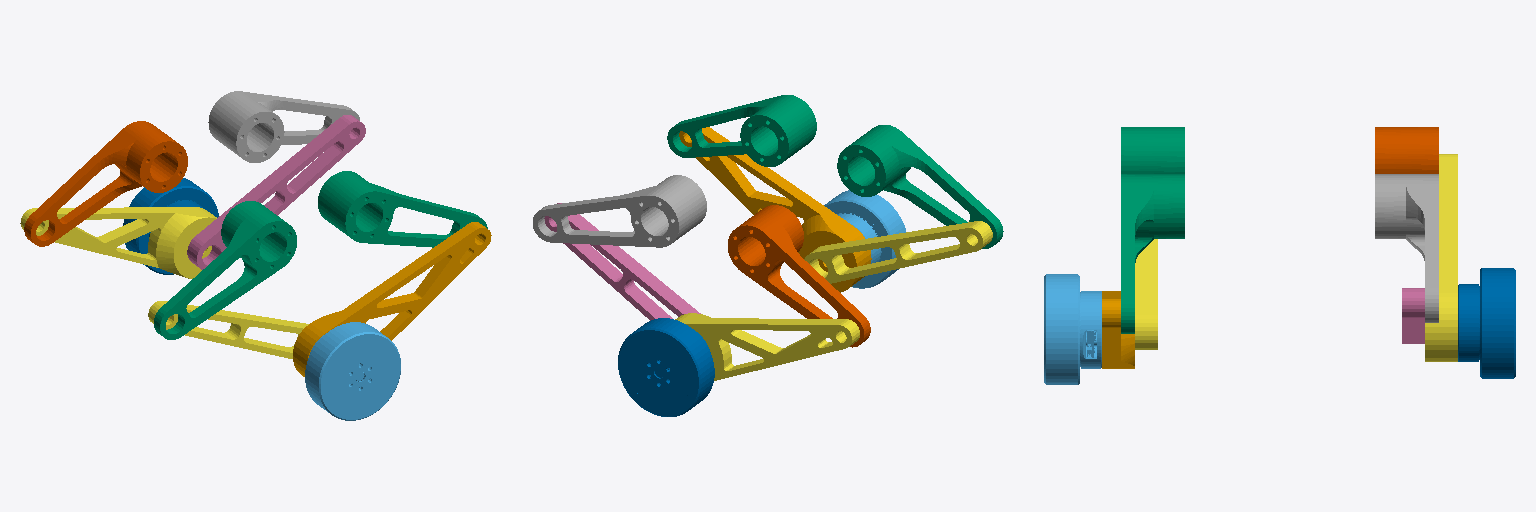
The robot description file, URDF, robot "wheel_leg_robot":
<?xml version="1.0"?>
<robot name="wheel_leg_robot">

  <link name="world"/>

  <!-- ================= base ================= -->
  <link name="base_link">
    <visual>
      <origin xyz="0 0 0" rpy="0 1.5708 0"/>
      <geometry>
        <mesh filename="package://wheel_leg_description/meshes/visual/shell_and_big_motor.stl"
              scale="0.001 0.001 0.001"/>
      </geometry>
      <material name="base_gray">
        <color rgba="0.65 0.65 0.65 1"/>
      </material>
    </visual>
  </link>

  <joint name="world_to_base" type="fixed">
    <parent link="world"/>
    <child link="base_link"/>
    <origin xyz="0 0 0" rpy="0 0 0"/>
  </joint>


  <!-- ========================================================= -->
  <!-- big_arm_1: J1 -> K1 -> small_leg_wheel_1 -> W1 -> wheel_1 -->
  <!-- ========================================================= -->

  <link name="big_arm_1_link">
    <visual>
      <origin xyz="-0.231306 -0.053564 -0.030643" rpy="0 1.5708 0"/>
      <geometry>
        <mesh filename="package://wheel_leg_description/meshes/visual/big_arm_1.stl"
              scale="0.001 0.001 0.001"/>
      </geometry>
    </visual>
  </link>

  <joint name="big_arm_1_joint" type="revolute">
    <parent link="base_link"/>
    <child link="big_arm_1_link"/>
    <origin xyz="0.231306 0.053564 0.030643" rpy="0 0 0"/>
    <axis xyz="0 1 0"/>
    <limit lower="-1.57" upper="1.57" effort="20" velocity="10"/>
  </joint>

  <link name="small_leg_wheel_1_link">
    <visual>
      <origin xyz="-0.308448 -0.080564 -0.009451" rpy="0 1.5708 0"/>
      <geometry>
        <mesh filename="package://wheel_leg_description/meshes/visual/small_leg_wheel_1.stl"
              scale="0.001 0.001 0.001"/>
      </geometry>
    </visual>
  </link>

  <joint name="knee_1_joint" type="revolute">
    <parent link="big_arm_1_link"/>
    <child link="small_leg_wheel_1_link"/>
    <origin xyz="0.077142 0.027000 -0.021192" rpy="0 0 0"/>
    <axis xyz="0 1 0"/>
    <limit lower="-2.5" upper="2.5" effort="20" velocity="10"/>
  </joint>

  <link name="wheel_motor_1_link">
    <visual>
      <origin xyz="-0.204820 -0.080564 0.051057" rpy="0 1.5708 0"/>
      <geometry>
        <mesh filename="package://wheel_leg_description/meshes/visual/wheel_motor_1.stl"
              scale="0.001 0.001 0.001"/>
      </geometry>
    </visual>
  </link>

  <joint name="wheel_1_joint" type="continuous">
    <parent link="small_leg_wheel_1_link"/>
    <child link="wheel_motor_1_link"/>
    <origin xyz="-0.103628 0 -0.060508" rpy="0 0 0"/>
    <axis xyz="0 1 0"/>
  </joint>


  <!-- ========================================== -->
  <!-- big_arm_2: J2 -> K2 -> small_leggy_1        -->
  <!-- ========================================== -->

  <link name="big_arm_2_link">
    <visual>
      <origin xyz="-0.161440 -0.053564 -0.026313" rpy="0 1.5708 0"/>
      <geometry>
        <mesh filename="package://wheel_leg_description/meshes/visual/big_arm_2.stl"
              scale="0.001 0.001 0.001"/>
      </geometry>
    </visual>
  </link>

  <joint name="big_arm_2_joint" type="revolute">
    <parent link="base_link"/>
    <child link="big_arm_2_link"/>
    <origin xyz="0.161440 0.053564 0.026313" rpy="0 0 0"/>
    <axis xyz="0 1 0"/>
    <limit lower="-1.57" upper="1.57" effort="20" velocity="10"/>
  </joint>

  <link name="small_leggy_1_link">
    <visual>
      <origin xyz="-0.091299 -0.088564 0.012160" rpy="0 1.5708 0"/>
      <geometry>
        <mesh filename="package://wheel_leg_description/meshes/visual/small_leggy_1.stl"
              scale="0.001 0.001 0.001"/>
      </geometry>
    </visual>
  </link>

  <joint name="knee_2_joint" type="revolute">
    <parent link="big_arm_2_link"/>
    <child link="small_leggy_1_link"/>
    <origin xyz="-0.070141 0.035000 -0.038473" rpy="0 0 0"/>
    <axis xyz="0 1 0"/>
    <limit lower="-2.5" upper="2.5" effort="20" velocity="10"/>
  </joint>


  <!-- ========================================================= -->
  <!-- big_arm_3: J3 -> K3 -> small_leg_wheel_2 -> W2 -> wheel_2 -->
  <!-- ========================================================= -->

  <link name="big_arm_3_link">
    <visual>
      <origin xyz="-0.231306 0.048436 -0.030643" rpy="0 1.5708 0"/>
      <geometry>
        <mesh filename="package://wheel_leg_description/meshes/visual/big_arm_3.stl"
              scale="0.001 0.001 0.001"/>
      </geometry>
    </visual>
  </link>

  <joint name="big_arm_3_joint" type="revolute">
    <parent link="base_link"/>
    <child link="big_arm_3_link"/>
    <origin xyz="0.231306 -0.048436 0.030643" rpy="0 0 0"/>
    <axis xyz="0 1 0"/>
    <limit lower="-1.57" upper="1.57" effort="20" velocity="10"/>
  </joint>

  <link name="small_leg_wheel_2_link">
    <visual>
      <origin xyz="-0.306005 0.083436 -0.002006" rpy="0 1.5708 0"/>
      <geometry>
        <mesh filename="package://wheel_leg_description/meshes/visual/small_leg_wheel_2.stl"
              scale="0.001 0.001 0.001"/>
      </geometry>
    </visual>
  </link>

  <joint name="knee_3_joint" type="revolute">
    <parent link="big_arm_3_link"/>
    <child link="small_leg_wheel_2_link"/>
    <origin xyz="0.074699 -0.035000 -0.028637" rpy="0 0 0"/>
    <axis xyz="0 1 0"/>
    <limit lower="-2.5" upper="2.5" effort="20" velocity="10"/>
  </joint>

  <link name="wheel_motor_2_link">
    <visual>
      <origin xyz="-0.201207 0.083436 0.056453" rpy="0 1.5708 0"/>
      <geometry>
        <mesh filename="package://wheel_leg_description/meshes/visual/wheel_motor_2.stl"
              scale="0.001 0.001 0.001"/>
      </geometry>
    </visual>
  </link>

  <joint name="wheel_2_joint" type="continuous">
    <parent link="small_leg_wheel_2_link"/>
    <child link="wheel_motor_2_link"/>
    <origin xyz="-0.104798 0 -0.058459" rpy="0 0 0"/>
    <axis xyz="0 1 0"/>
  </joint>


  <!-- ========================================== -->
  <!-- big_arm_4: J4 -> K4 -> small_leggy_2        -->
  <!-- ========================================== -->

  <link name="big_arm_4_link">
    <visual>
      <origin xyz="-0.161440 0.048436 -0.026313" rpy="0 1.5708 0"/>
      <geometry>
        <mesh filename="package://wheel_leg_description/meshes/visual/big_arm_4.stl"
              scale="0.001 0.001 0.001"/>
      </geometry>
    </visual>
  </link>

  <joint name="big_arm_4_joint" type="revolute">
    <parent link="base_link"/>
    <child link="big_arm_4_link"/>
    <origin xyz="0.161440 -0.048436 0.026313" rpy="0 0 0"/>
    <axis xyz="0 1 0"/>
    <limit lower="-1.57" upper="1.57" effort="20" velocity="10"/>
  </joint>

  <link name="small_leggy_2_link">
    <visual>
      <origin xyz="-0.090381 0.075436 0.010437" rpy="0 1.5708 0"/>
      <geometry>
        <mesh filename="package://wheel_leg_description/meshes/visual/small_leggy_2.stl"
              scale="0.001 0.001 0.001"/>
      </geometry>
    </visual>
  </link>

  <joint name="knee_4_joint" type="revolute">
    <parent link="big_arm_4_link"/>
    <child link="small_leggy_2_link"/>
    <origin xyz="-0.071059 -0.027000 -0.036750" rpy="0 0 0"/>
    <axis xyz="0 1 0"/>
    <limit lower="-2.5" upper="2.5" effort="20" velocity="10"/>
  </joint>

</robot>

--- What the picture shows (computed from the rendered views, not written in the file) ---
3 views of the same robot in one strip: view 1: azimuth 30°, elevation 25°; view 2: azimuth 150°, elevation 25°; view 3: azimuth 270°, elevation 25° (orthographic).
Robot: wheel_leg_robot — 12 links, 11 joints (8 revolute, 2 continuous, 1 fixed); root link world; default pose: all joints at 0.
Links seen in each view (by area): view 1: big_arm_2_link, big_arm_4_link, wheel_motor_2_link, small_leg_wheel_2_link, small_leg_wheel_1_link, big_arm_1_link, big_arm_3_link, small_leggy_1_link, small_leggy_2_link, wheel_motor_1_link; view 2: wheel_motor_1_link, big_arm_4_link, big_arm_3_link, big_arm_2_link, big_arm_1_link, small_leg_wheel_2_link, small_leg_wheel_1_link, small_leggy_2_link, small_leggy_1_link, wheel_motor_2_link; view 3: wheel_motor_2_link, wheel_motor_1_link, big_arm_1_link, big_arm_3_link, small_leg_wheel_1_link, big_arm_2_link, big_arm_4_link, small_leggy_2_link, small_leg_wheel_2_link, small_leggy_1_link.
Link boxes in pixels (x1=…): big_arm_2_link: x1=24, y1=121, x2=187, y2=246; big_arm_4_link: x1=154, y1=201, x2=296, y2=339; wheel_motor_2_link: x1=305, y1=322, x2=400, y2=420; small_leg_wheel_2_link: x1=293, y1=222, x2=491, y2=376; small_leg_wheel_1_link: x1=20, y1=207, x2=216, y2=278; big_arm_1_link: x1=318, y1=171, x2=487, y2=247; big_arm_3_link: x1=208, y1=91, x2=359, y2=162; small_leggy_1_link: x1=187, y1=115, x2=365, y2=269; small_leggy_2_link: x1=148, y1=301, x2=308, y2=358; wheel_motor_1_link: x1=123, y1=178, x2=218, y2=274; wheel_motor_1_link: x1=618, y1=318, x2=714, y2=416; big_arm_4_link: x1=837, y1=125, x2=1003, y2=248; big_arm_3_link: x1=533, y1=175, x2=706, y2=247; big_arm_2_link: x1=728, y1=205, x2=870, y2=347; big_arm_1_link: x1=667, y1=95, x2=816, y2=166; small_leg_wheel_2_link: x1=679, y1=127, x2=871, y2=292; small_leg_wheel_1_link: x1=675, y1=313, x2=859, y2=380; small_leggy_2_link: x1=804, y1=221, x2=992, y2=283; small_leggy_1_link: x1=544, y1=203, x2=700, y2=320; wheel_motor_2_link: x1=824, y1=190, x2=905, y2=288; wheel_motor_2_link: x1=1044, y1=274, x2=1101, y2=384; wheel_motor_1_link: x1=1458, y1=268, x2=1515, y2=378; big_arm_1_link: x1=1121, y1=174, x2=1184, y2=333; big_arm_3_link: x1=1375, y1=174, x2=1438, y2=322; small_leg_wheel_1_link: x1=1425, y1=154, x2=1457, y2=361; big_arm_2_link: x1=1375, y1=127, x2=1438, y2=173; big_arm_4_link: x1=1121, y1=127, x2=1184, y2=173; small_leggy_2_link: x1=1135, y1=239, x2=1157, y2=349; small_leg_wheel_2_link: x1=1102, y1=291, x2=1134, y2=368; small_leggy_1_link: x1=1402, y1=288, x2=1424, y2=343.
Bounding box of the posed robot: 0.2401 × 0.254 × 0.1345 m (x, y, z).
Meshes: 11 distinct files referenced, 10 mesh visuals loaded (10 binary STL); not drawn: 1 (reference not matched to a file when rendering).
